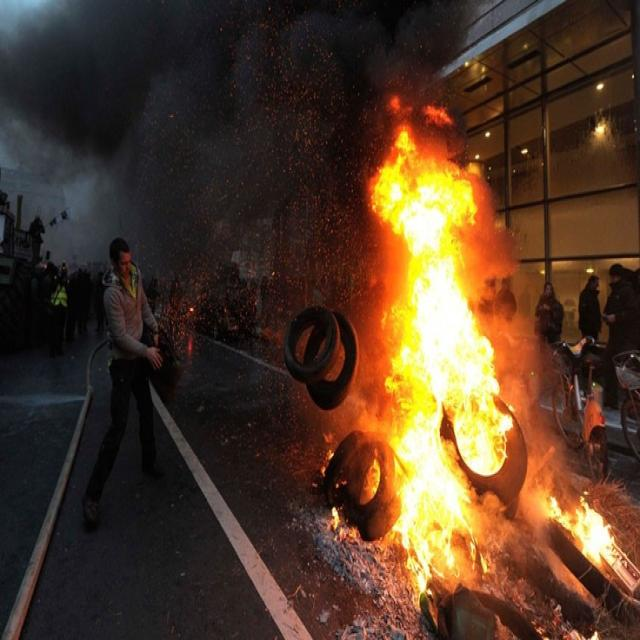fire: (371, 129, 512, 594), (549, 496, 615, 568)
